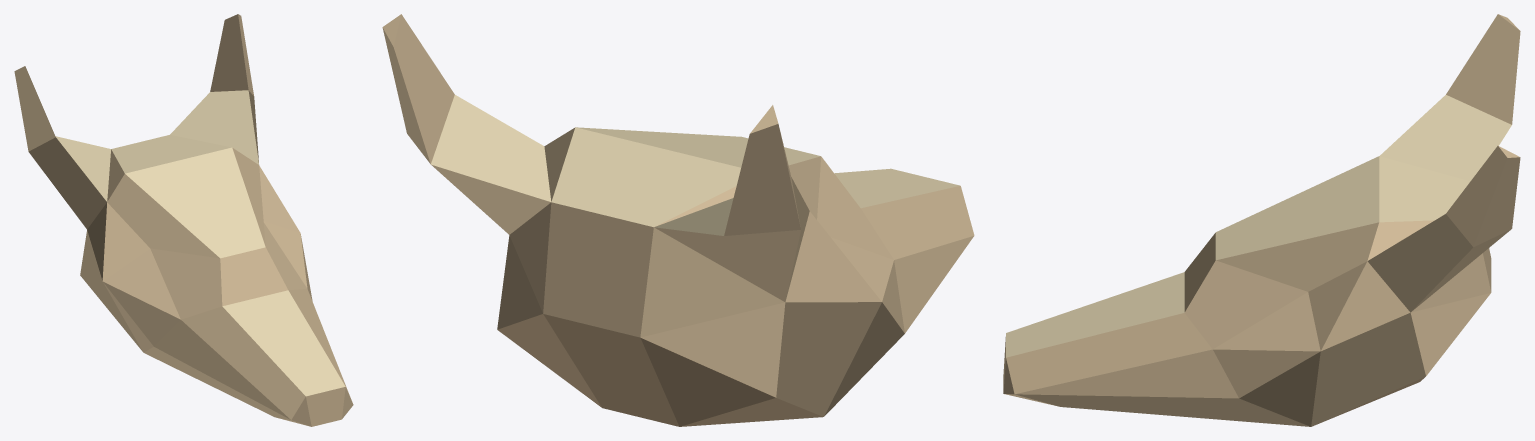
The model's file is TB_D_Env_BoneA_A.FBX.
The picture shows the model from 3 angles, left to right: view 1: azimuth 30°, elevation 25°; view 2: azimuth 150°, elevation 25°; view 3: azimuth 270°, elevation 25°; orthographic projection. The views are drawn at different scales.
Visible parts, largest first — view 1: TB_D_Env_BoneA_A; view 2: TB_D_Env_BoneA_A; view 3: TB_D_Env_BoneA_A.
Part boxes in pixels (x1=…): TB_D_Env_BoneA_A: x1=14, y1=14, x2=353, y2=426; TB_D_Env_BoneA_A: x1=382, y1=14, x2=974, y2=426; TB_D_Env_BoneA_A: x1=1003, y1=14, x2=1520, y2=426.
Size of the model in its own units: 1.88 by 1.93 by 2.93.
